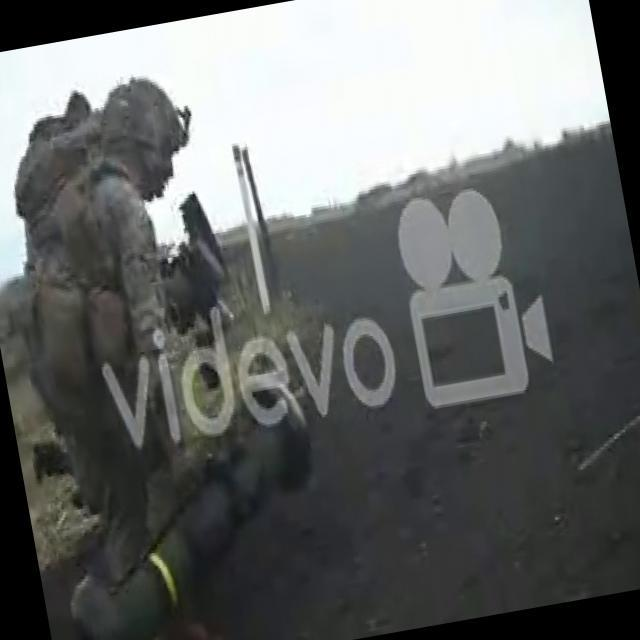rocket: (38, 365, 344, 640)
